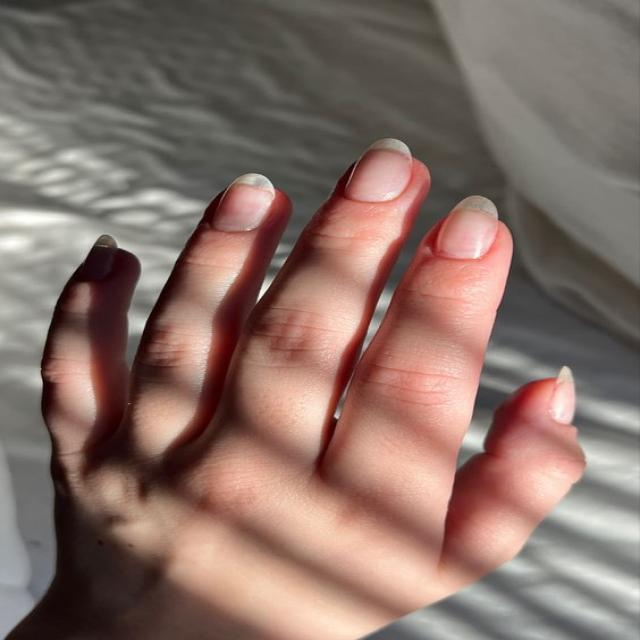Fingernail: (434, 196, 496, 265), (348, 139, 412, 204), (210, 176, 272, 233), (554, 367, 577, 421)
